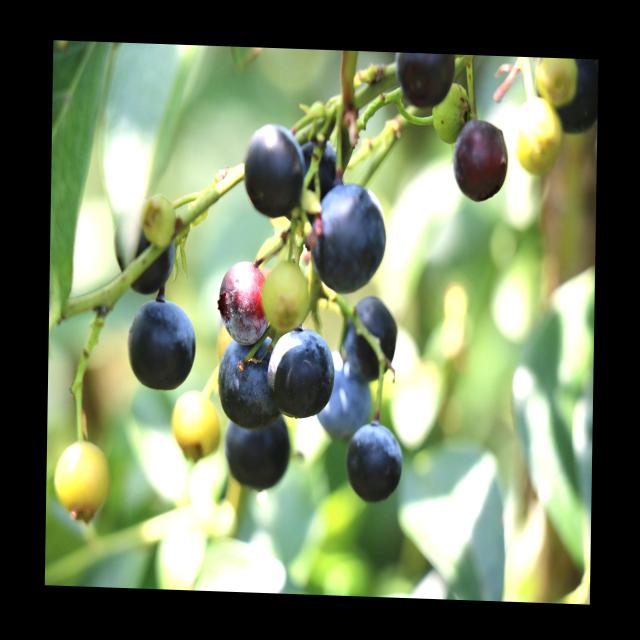blueberry: (314, 182, 384, 294), (127, 302, 196, 389), (217, 337, 282, 428), (268, 332, 335, 418), (110, 209, 176, 295), (246, 127, 304, 212), (227, 409, 286, 486), (452, 118, 504, 201), (344, 298, 396, 380), (346, 424, 404, 496), (320, 357, 371, 434), (394, 52, 456, 107), (303, 137, 339, 199)
blueberry-halfripe: (212, 259, 269, 344)
blueberry-unripe: (53, 444, 114, 522), (512, 98, 562, 174), (167, 391, 220, 461), (262, 260, 312, 328), (431, 81, 475, 139)
